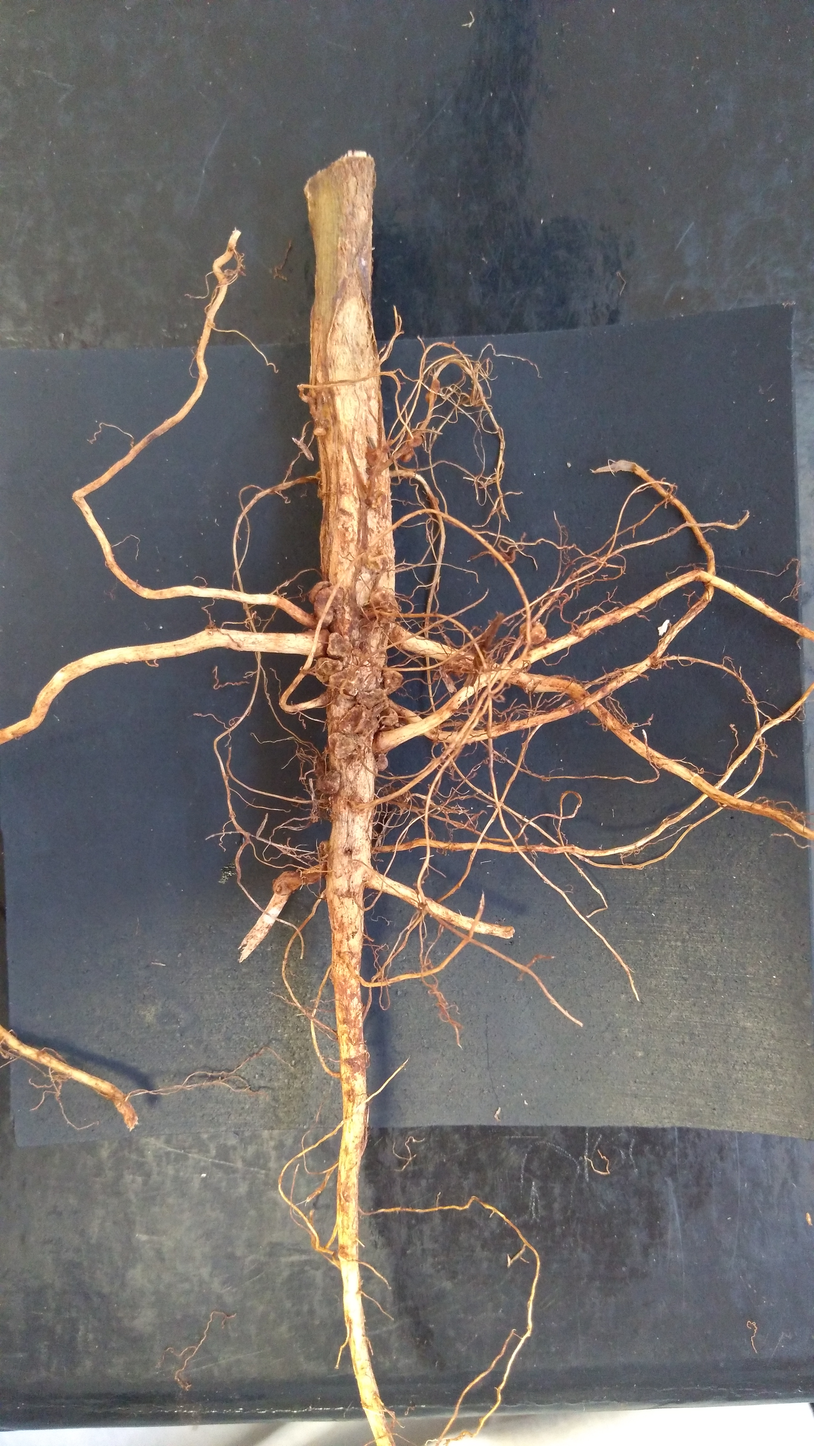nodule: (310, 583, 342, 628), (324, 729, 360, 762), (267, 868, 306, 898), (309, 655, 347, 685), (322, 628, 356, 661), (336, 701, 370, 734), (517, 617, 550, 650), (302, 575, 335, 606), (311, 768, 344, 797), (352, 685, 388, 711), (380, 666, 405, 696), (378, 707, 403, 727), (404, 430, 426, 449), (398, 446, 419, 464), (316, 837, 332, 859), (372, 752, 389, 772), (447, 662, 466, 677), (424, 391, 439, 405), (429, 376, 442, 392), (313, 426, 328, 438)
